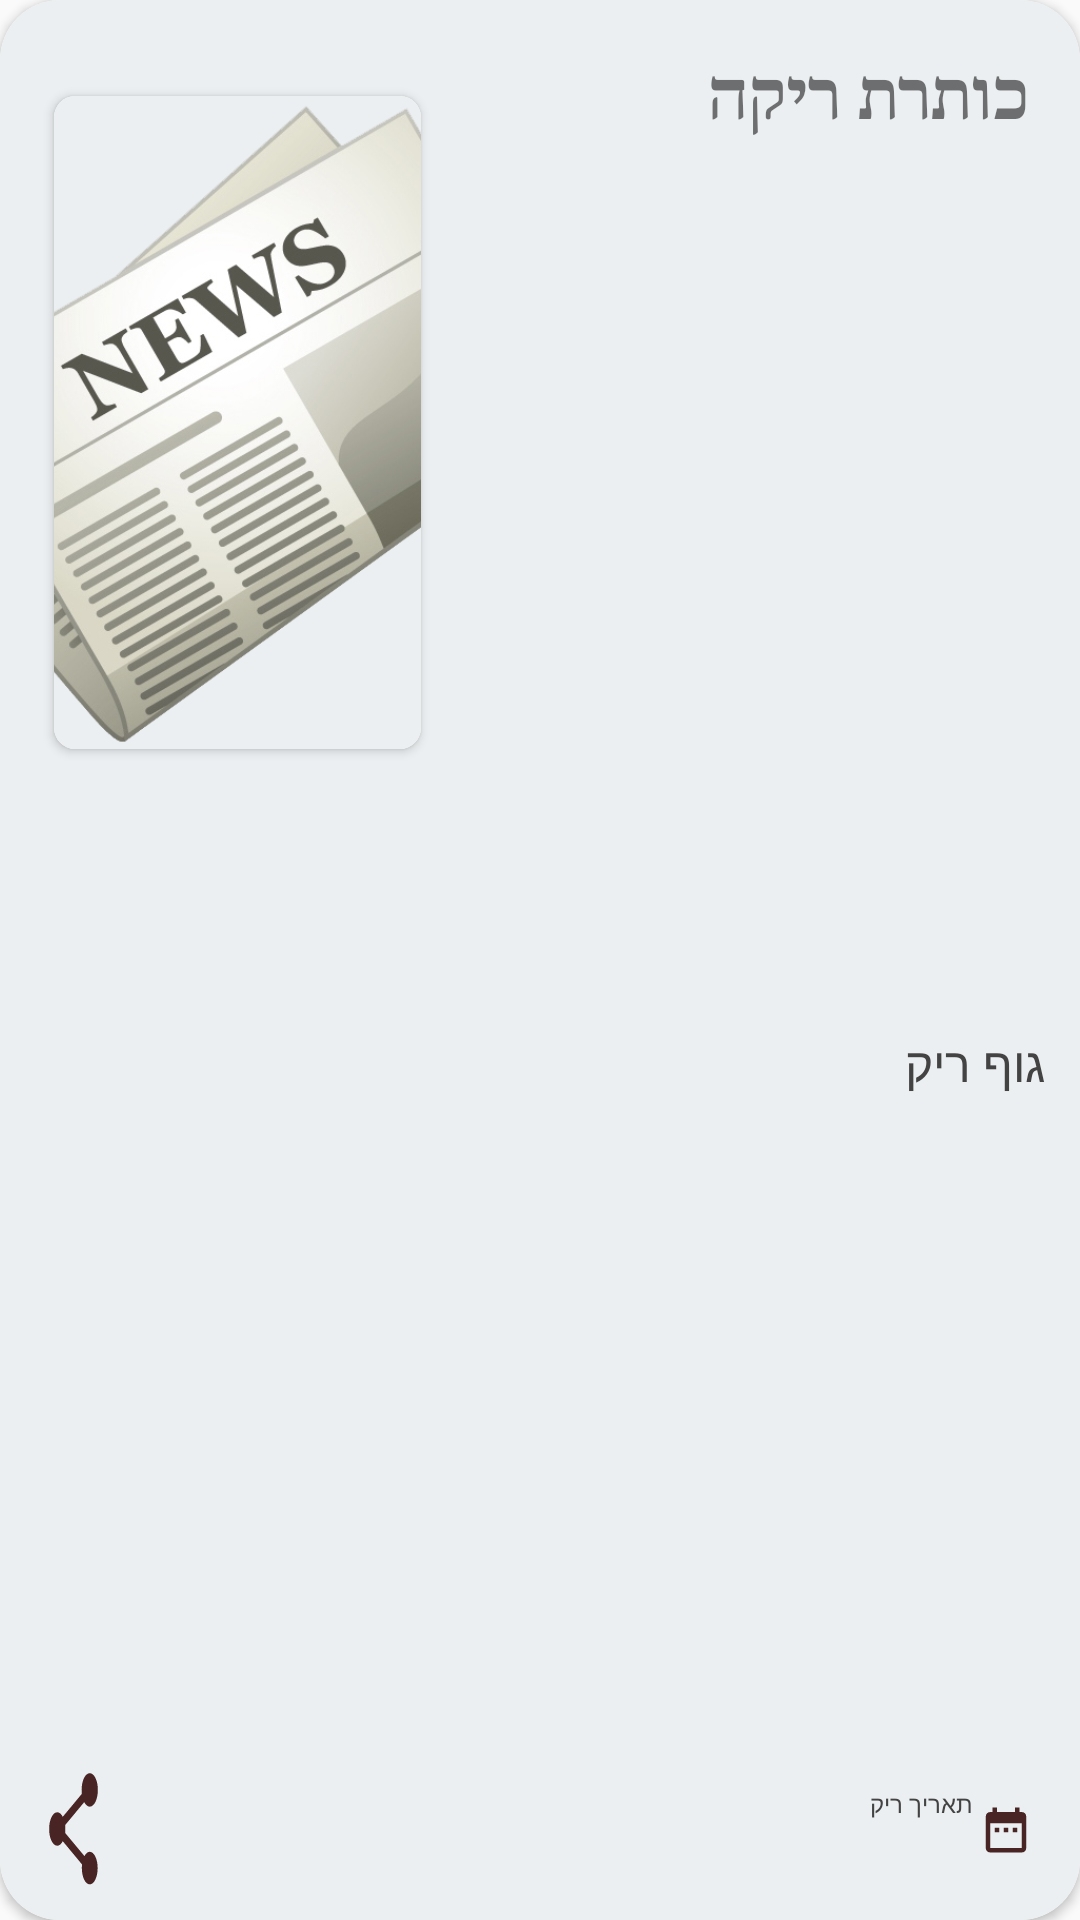

Icon bounding boxes for this 1080 × 1920 phone screenshot, format (x1, y1, x2, y2):
share: (49, 1773, 98, 1885)
